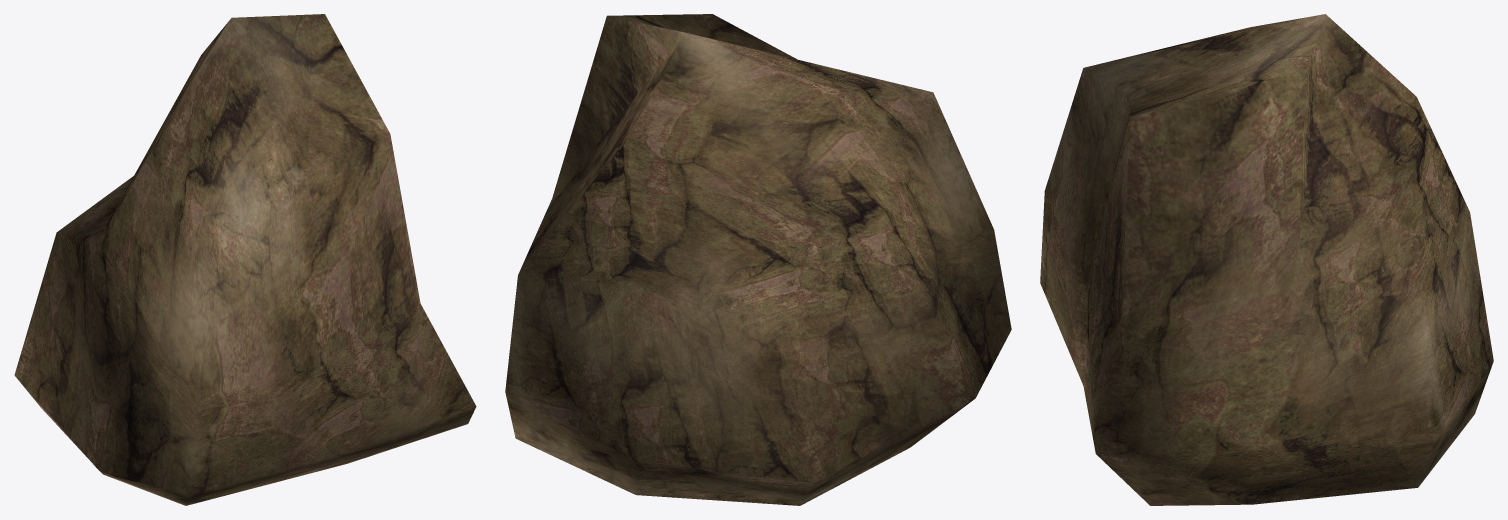
Rendered from Pedra_Pequena.fbx.
3 views of the same model, side by side, from view 1: azimuth 30°, elevation 25°; view 2: azimuth 150°, elevation 25°; view 3: azimuth 270°, elevation 25° (orthographic). The views are drawn at different scales.
Parts seen in each view (by area): view 1: Pedra Pequena; view 2: Pedra Pequena; view 3: Pedra Pequena.
Boxes of the visible parts, x1,y1,x2,y2 form: Pedra Pequena: (14, 14, 476, 505); Pedra Pequena: (505, 14, 1011, 505); Pedra Pequena: (1040, 14, 1493, 505).
Bounding box in the file's own units: 100 × 100 × 100.
Materials: 1 (1 with a texture image).
